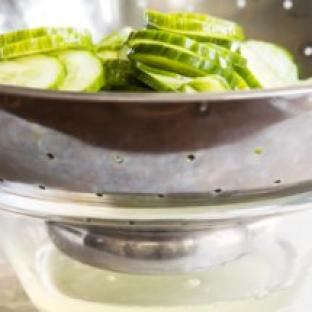Cucumber: (128, 30, 245, 68), (128, 43, 232, 76), (146, 11, 243, 42), (237, 41, 298, 88), (0, 32, 92, 59), (0, 56, 65, 89), (59, 50, 104, 91), (0, 28, 89, 47), (137, 63, 190, 92), (104, 59, 137, 89), (96, 28, 133, 50), (188, 76, 230, 92)
